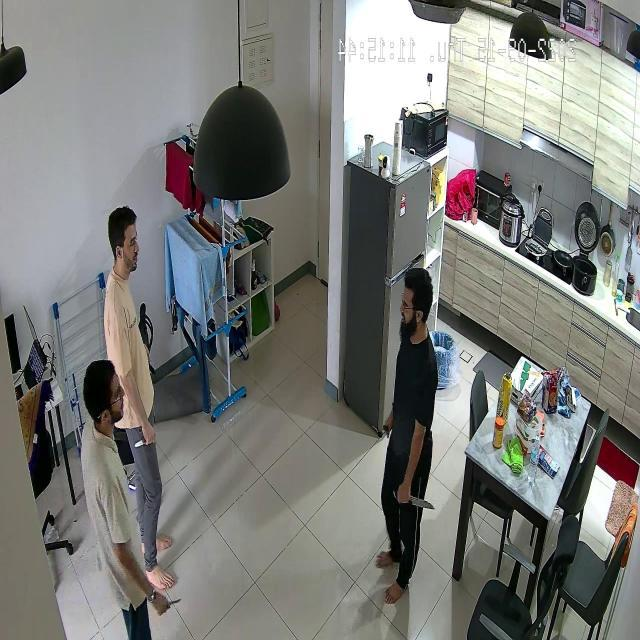Knife: (386, 483, 438, 521)
